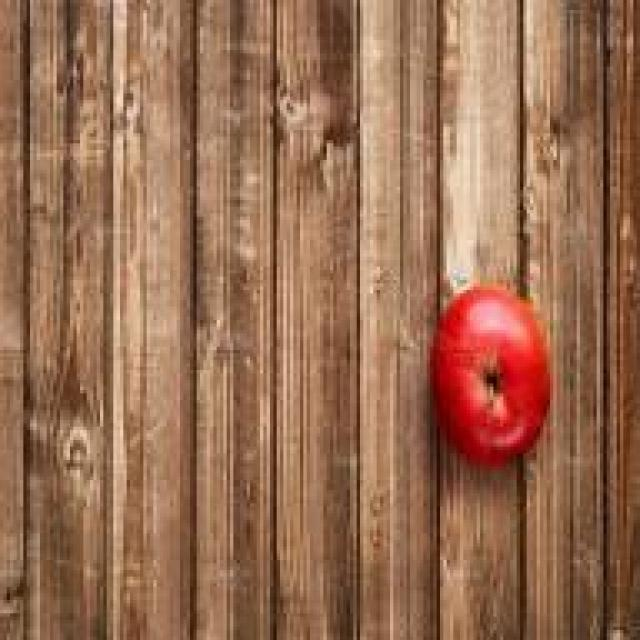apple: (430, 277, 553, 470)
